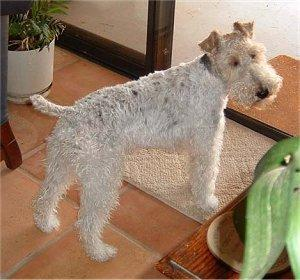wire-haired_fox_terrier: (31, 22, 283, 260)
